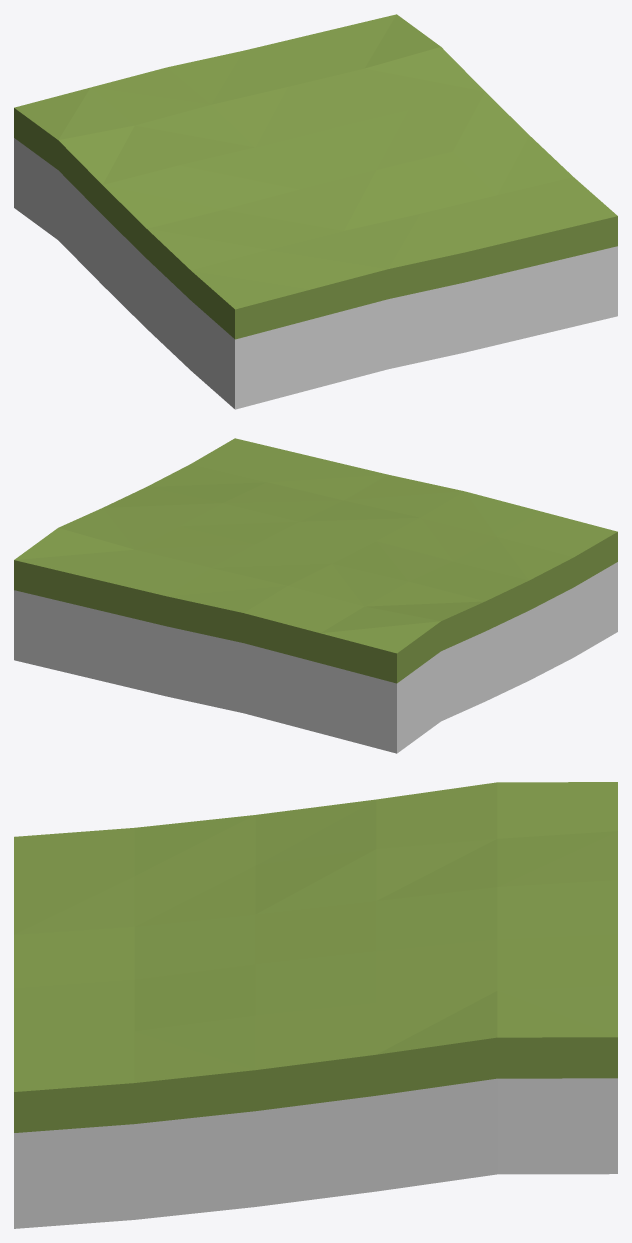
Rendered from terrain-world-hill_02-2.fbx.
3 renders of one model, top to bottom at view 1: azimuth 30°, elevation 25°; view 2: azimuth 150°, elevation 25°; view 3: azimuth 270°, elevation 25°, orthographic. The views are drawn at different scales.
Parts seen in each view (by area): view 1: terrain-world-hill_02-2; view 2: terrain-world-hill_02-2; view 3: terrain-world-hill_02-2.
Part boxes in pixels (x1,y1,x2,y2): terrain-world-hill_02-2: (14, 14, 617, 409); terrain-world-hill_02-2: (14, 438, 617, 753); terrain-world-hill_02-2: (14, 782, 617, 1228).
Bounding box in the file's own units: 20.01 × 7.15 × 20.
